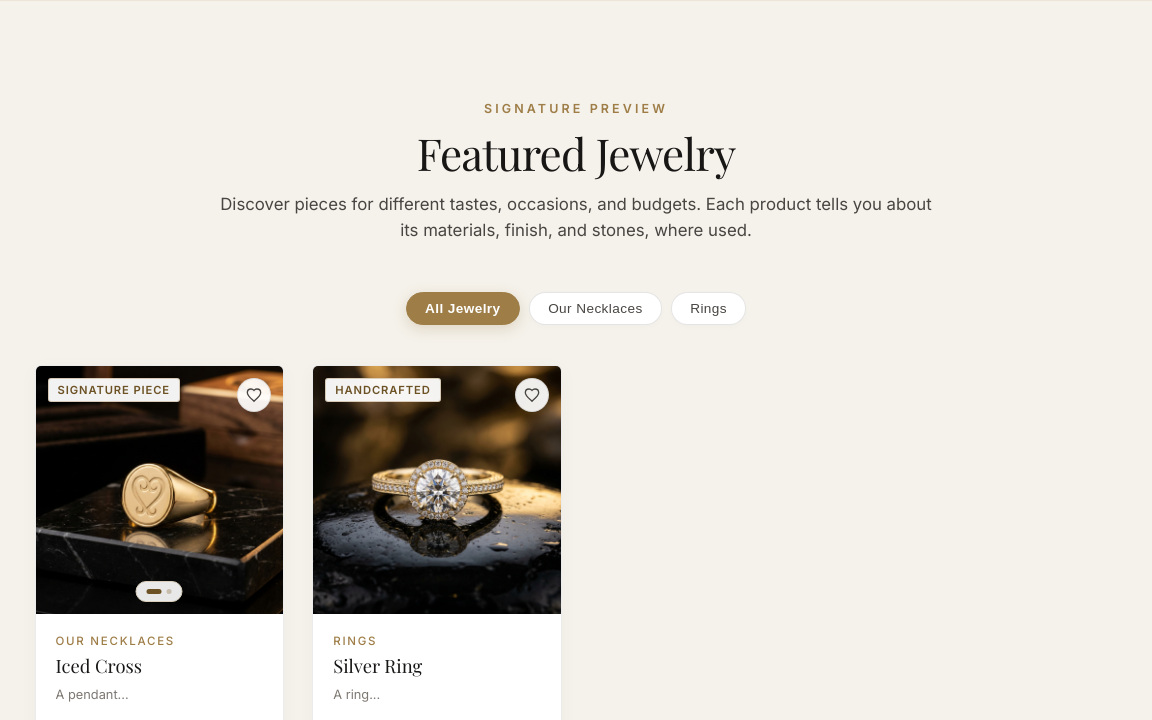
Scenario: Homepage live catalog › displays saved products and uses actual collection names for filters
The image size is (1152, 720).
Expected: the button "Our Necklaces" is shown, [529,292,662,325]
Click the button "Rings" at x=709, y=309, box [671,292,746,325]
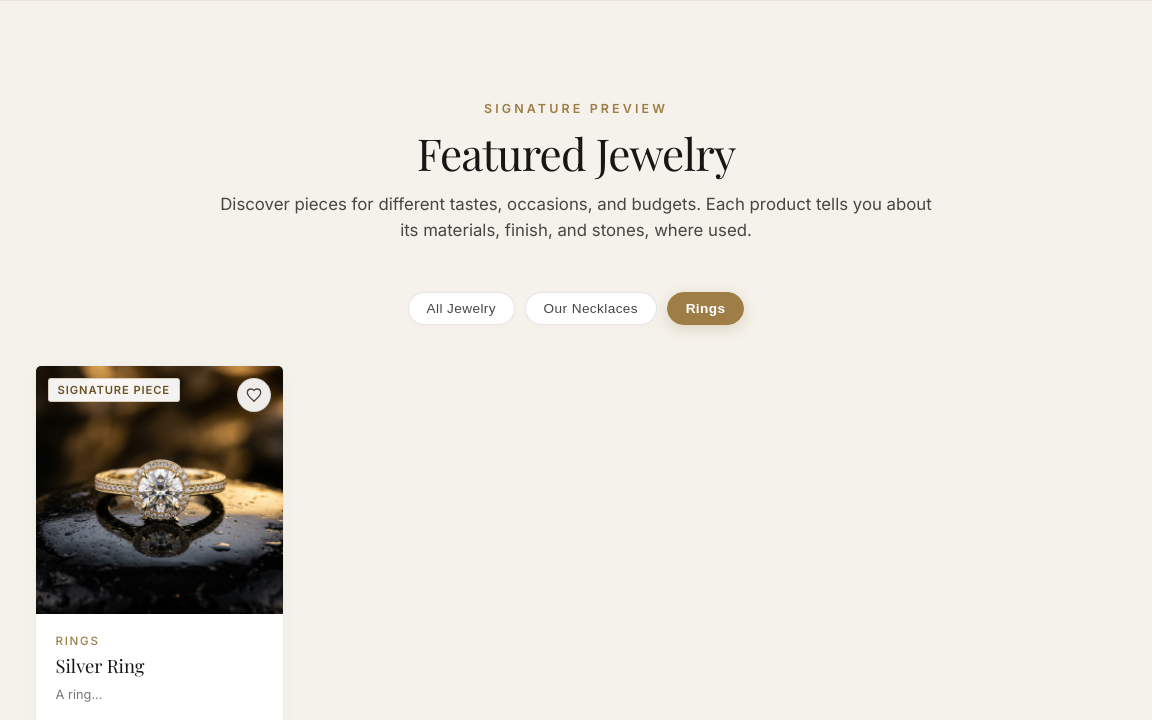
Expected: the link "Silver Ring" is shown, [56,653,144,678]
Expected: the link "Iced Cross" is gone
